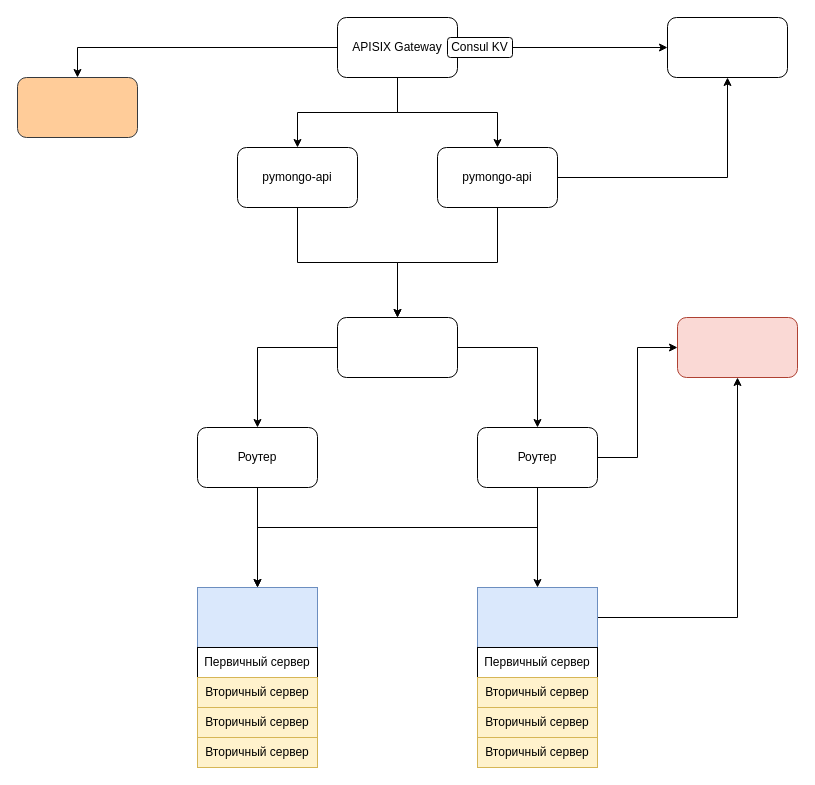
Image size: 815x785. Some labels were removed from this diagram. The centre of each missing label's shape, as x and y in pixels:
"Consul" belongs at [727,47].
"redis" belongs at [77,107].
"Драйвер" belongs at [397,347].
"Конфигурационный сервис" belongs at [737,347].
"Шард1" belongs at [257,617].
"Шард2" belongs at [537,617].
